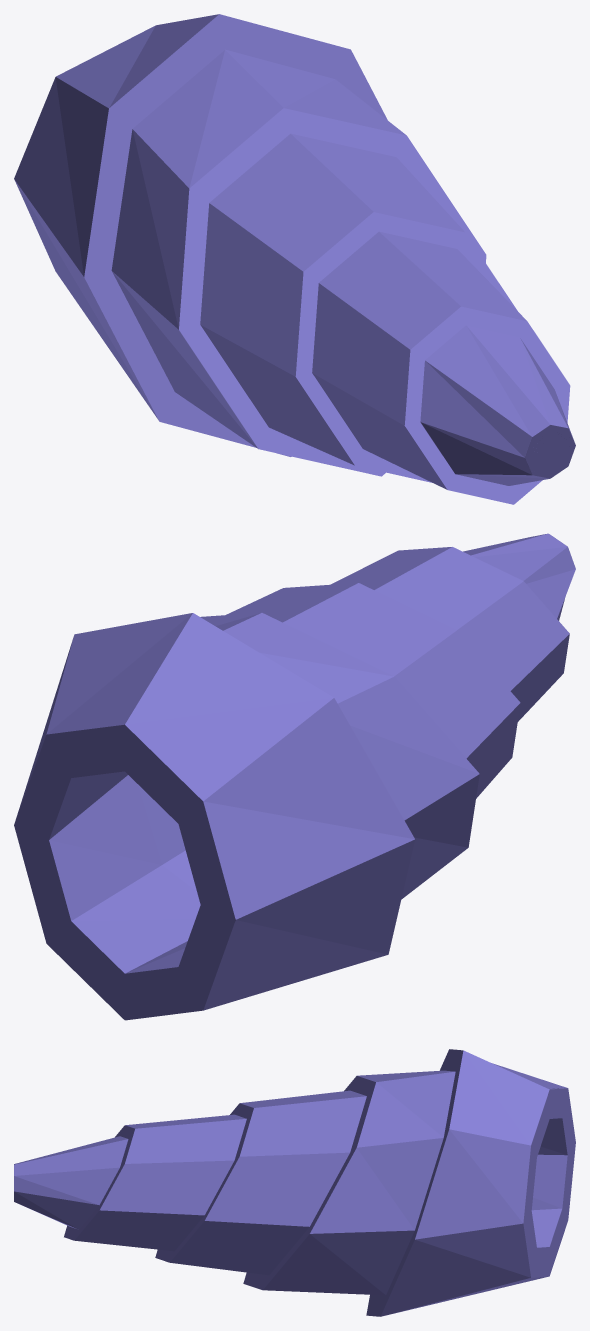
The model's file is Seashell 3 PURPLE.fbx.
3 views of the same model, one above another, from view 1: azimuth 30°, elevation 25°; view 2: azimuth 150°, elevation 25°; view 3: azimuth 270°, elevation 25° (orthographic). The views are drawn at different scales.
Parts seen in each view (by area): view 1: Cylinder002; view 2: Cylinder002; view 3: Cylinder002.
Boxes of the visible parts, x1,y1,x2,y2 form: Cylinder002: [14, 14, 575, 504]; Cylinder002: [14, 533, 575, 1020]; Cylinder002: [14, 1049, 575, 1316].
Bounding box in the file's own units: 11.64 × 12.7 × 24.39.
Materials: 1 (1 with a texture image).
